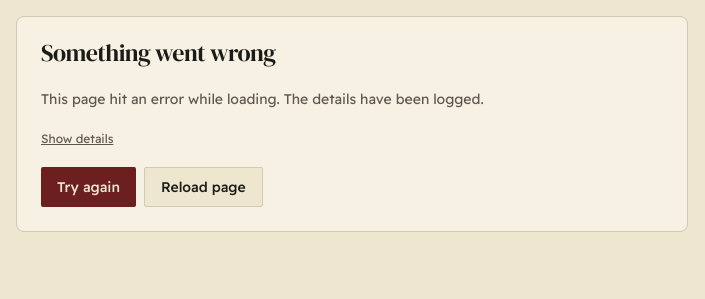
Scenario: ErrorBoundary — the details disclosure › collapses again on a second click
The width and height of the screenshot is (705, 299).
Click the button "Show details" at (77, 139), box [41,131,113,147]
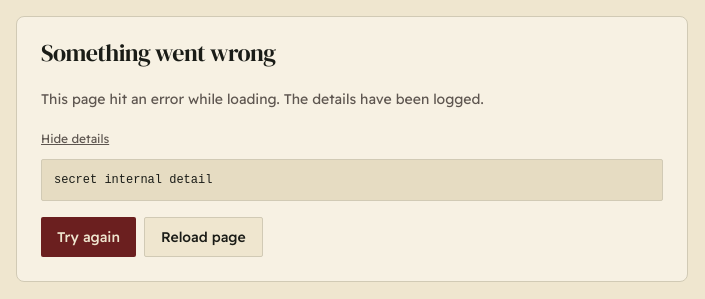
Click the button "Hide details" at (75, 139), box [41,131,109,147]
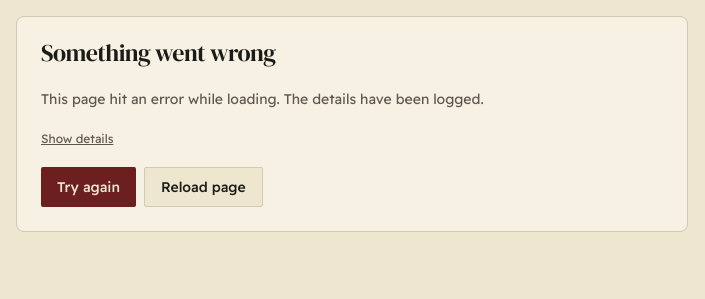
Result: the text "secret internal detail" is gone
Result: the button "Show details" is shown at [41,131,113,147]
